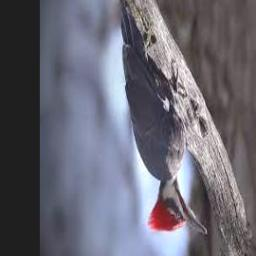Woodpecker: (119, 1, 207, 235)
